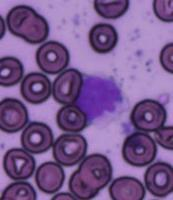M: (76, 72, 128, 127)
